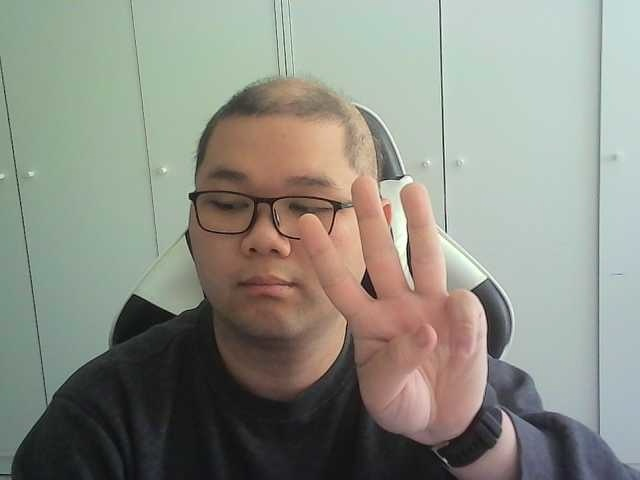Three: (298, 176, 488, 435)
